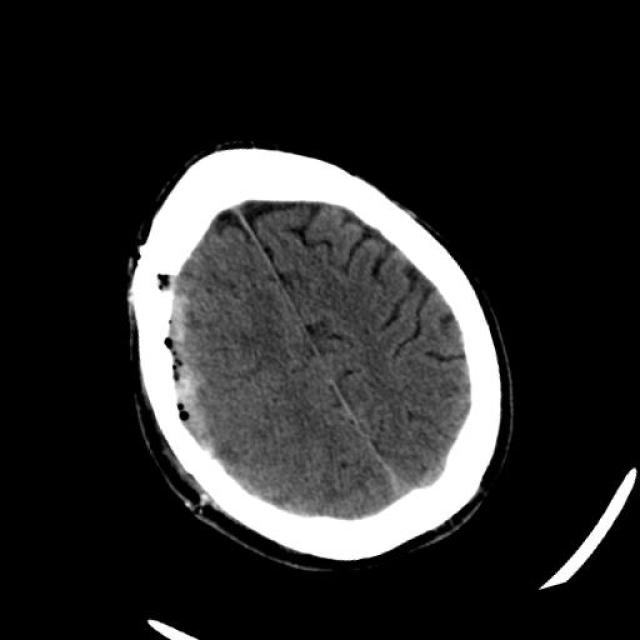Subdural: (129, 261, 262, 520)
